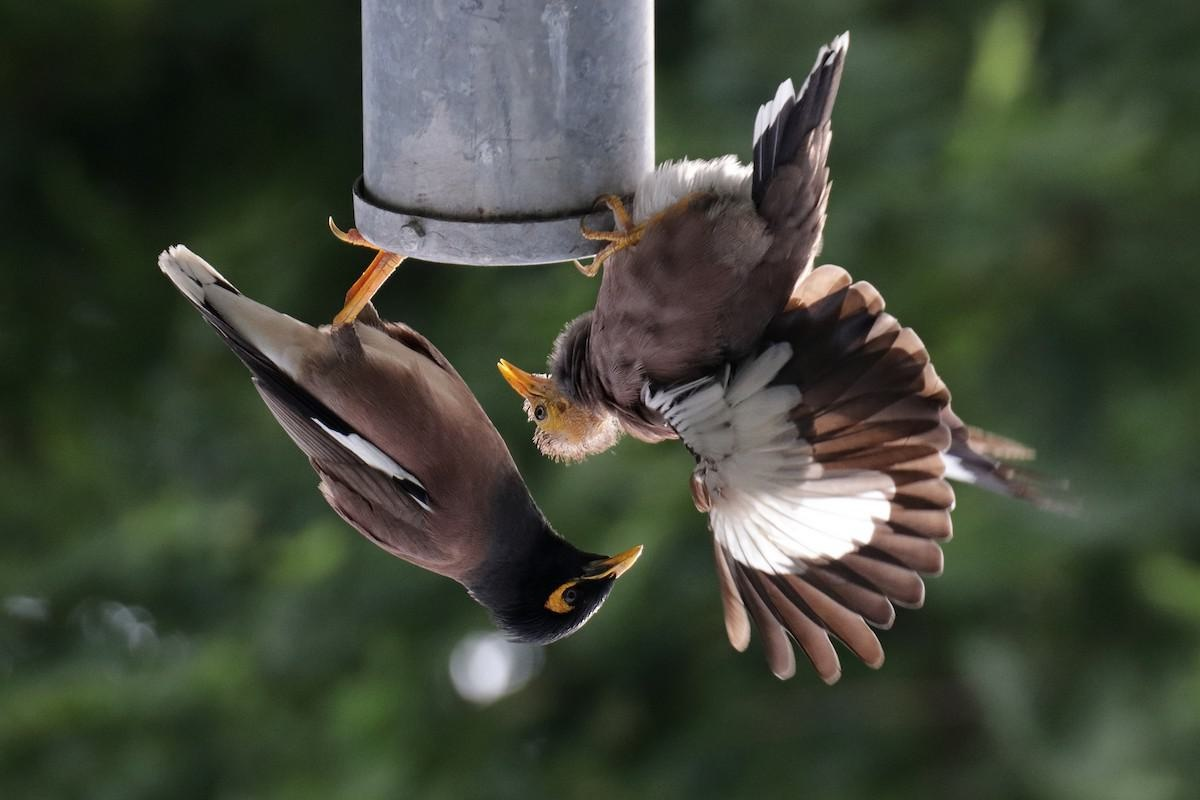myna: (501, 32, 960, 483), (158, 228, 640, 642)
